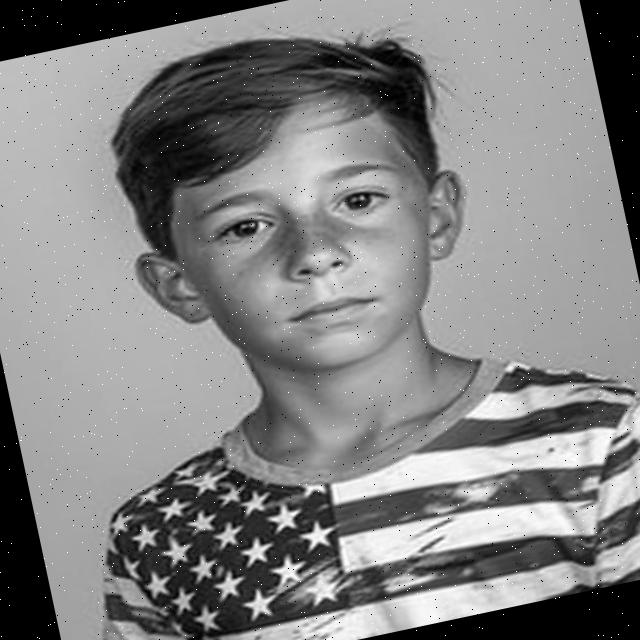Neutral: (152, 81, 456, 392)
